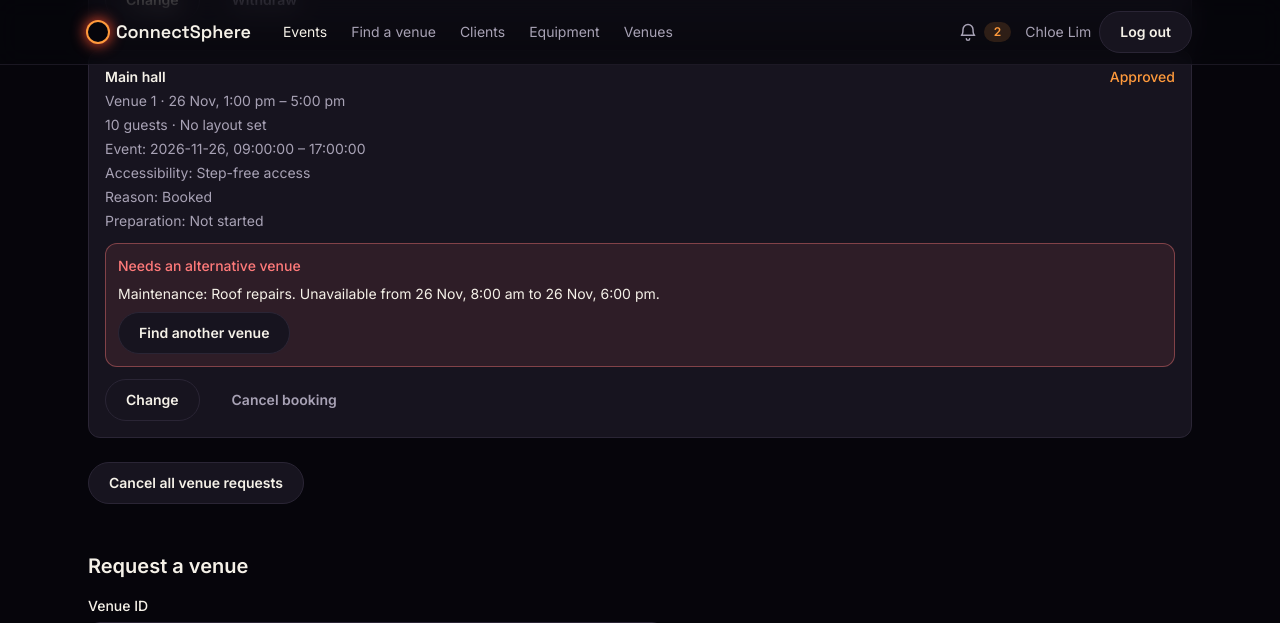
SCRUM-111 cancelling an approved booking on the venue requests page › says to withdraw a replacement still waiting first, and cancels once it is withdrawn
(page scrolled)
Click the button "Cancel booking" at (284, 400), box 212,379 -> 357,421
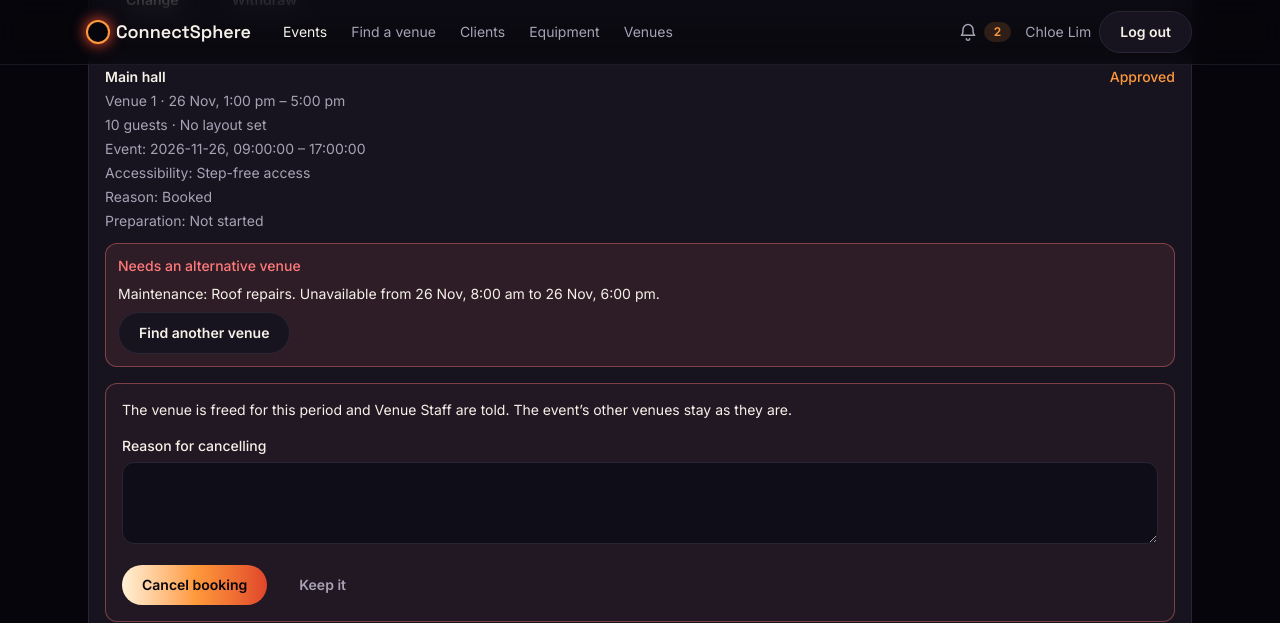
Type "The talks moved to the side room." into the text box labelled "Reason for cancelling" at (640, 503), box 122,462 -> 1158,544
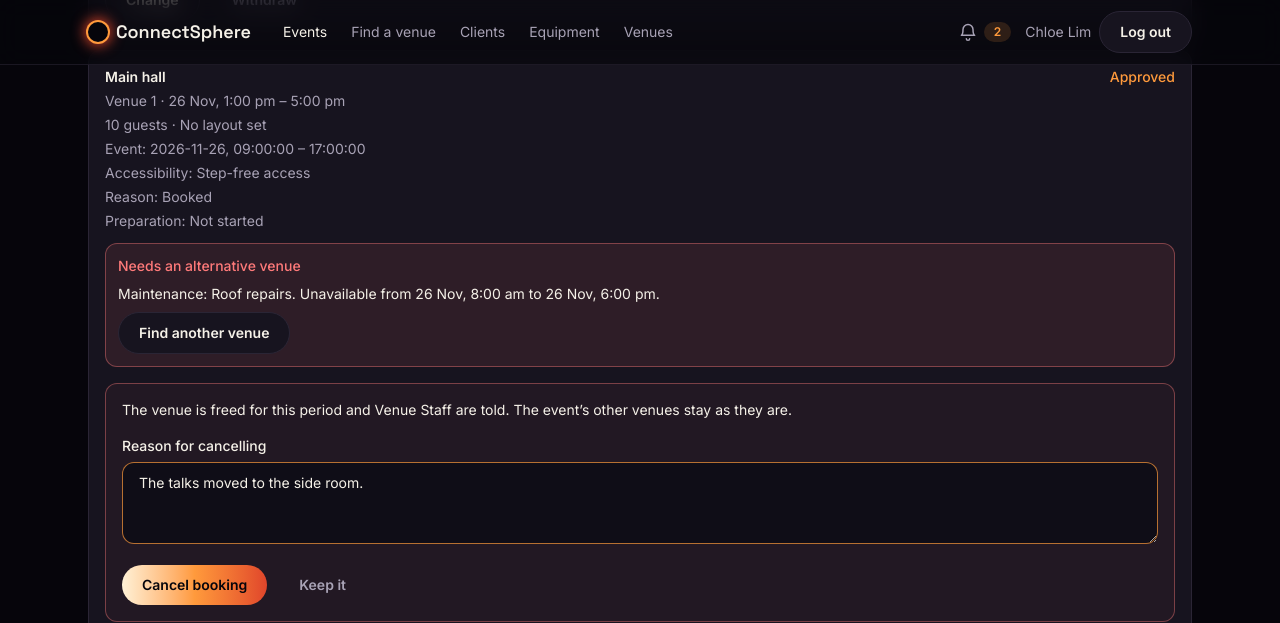
Click the button "Cancel booking" at (195, 585), box 122,565 -> 267,605
(page scrolled)
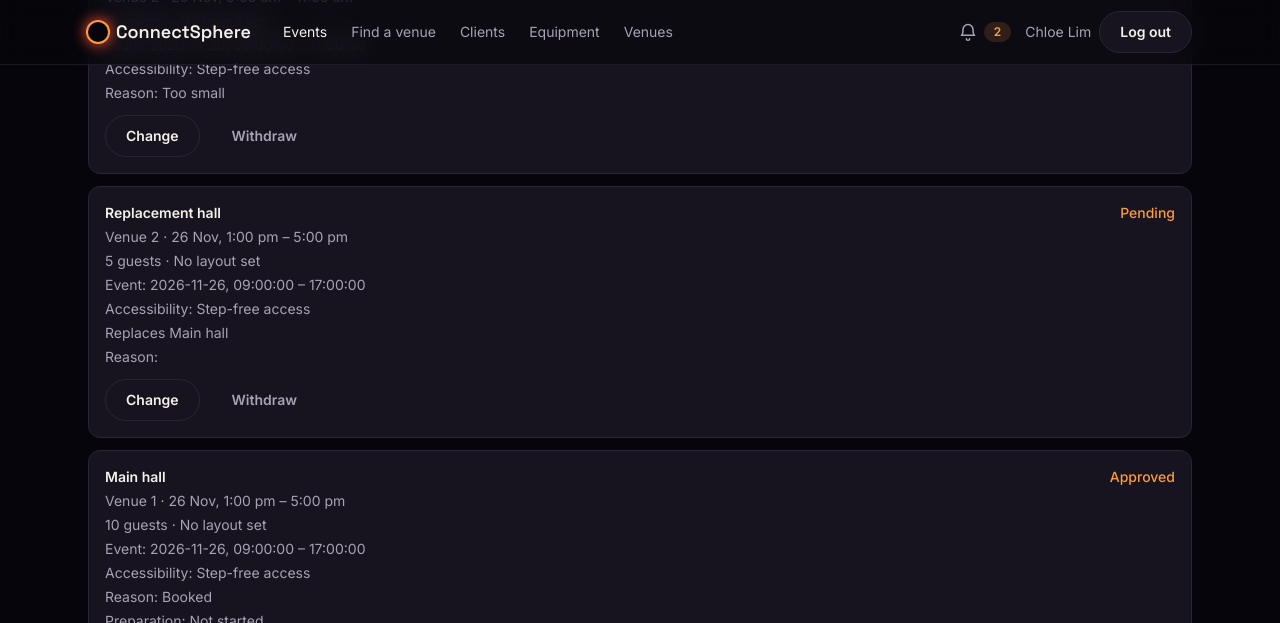
Click the button with aria-label "Withdraw Replacement hall" at (264, 400), box 212,379 -> 317,421
(page scrolled)
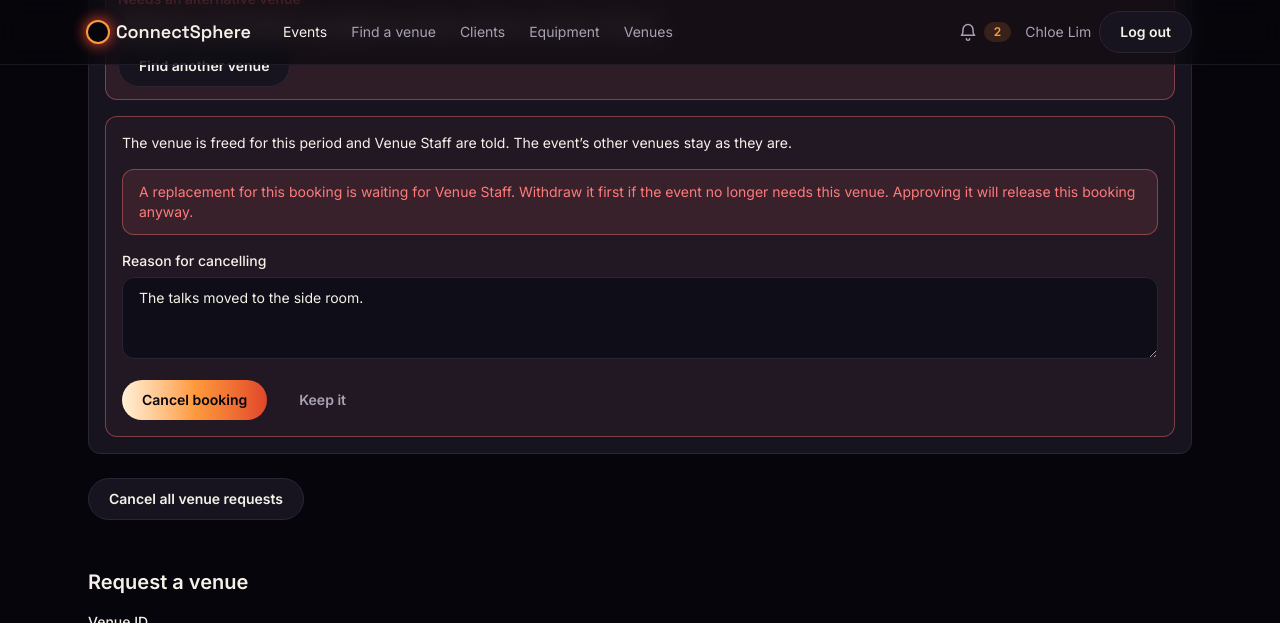
Click the button "Cancel booking" at (195, 400), box 122,380 -> 267,420
(page scrolled)
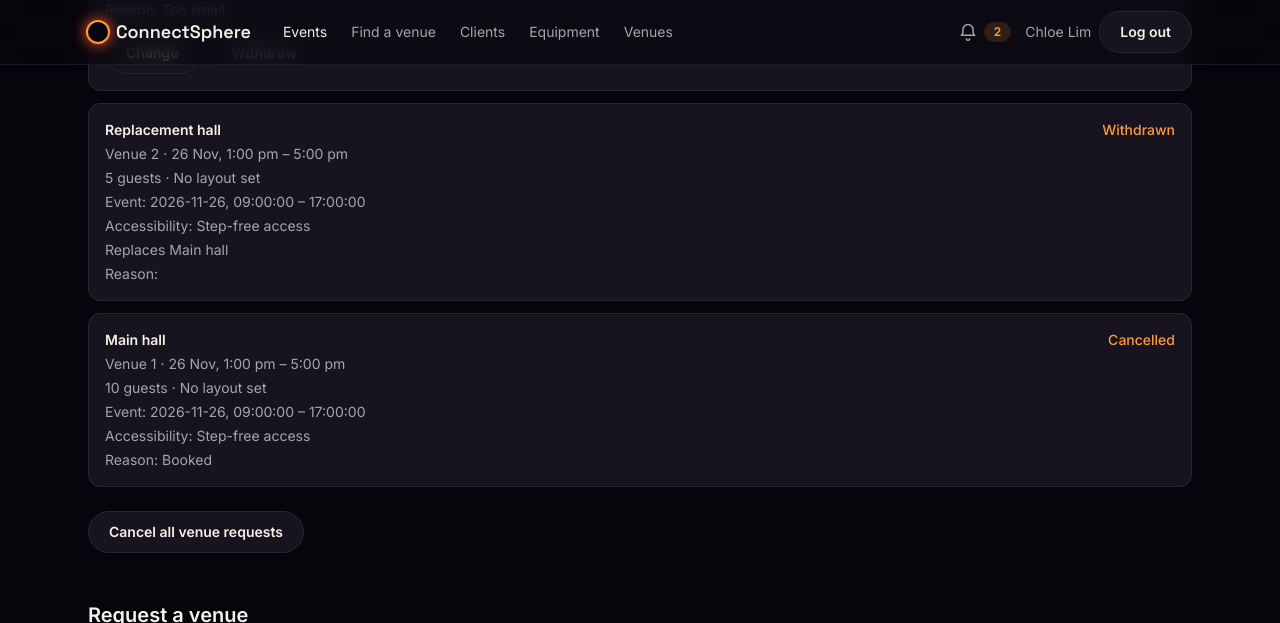
Check: the list item "Main hall" shows "Cancelled", box 1108,331 -> 1175,348
